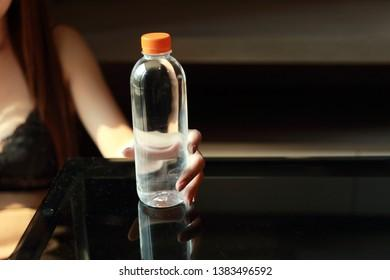bottle: (126, 25, 195, 212)
